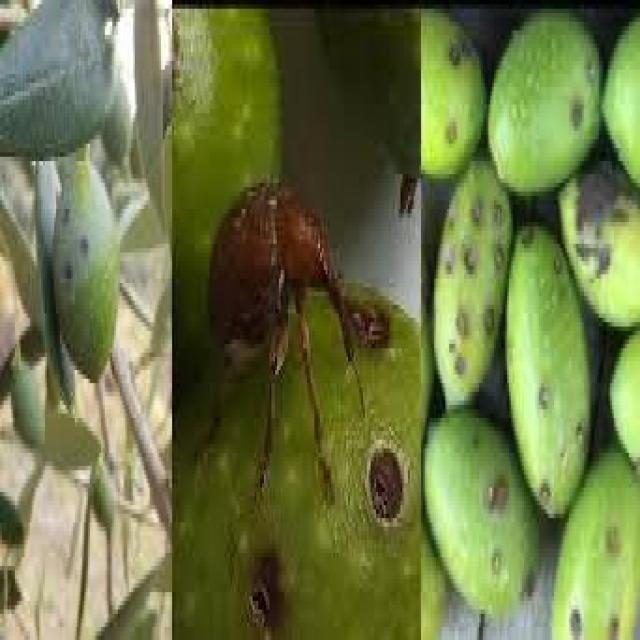Anthracnose: (506, 226, 590, 509), (426, 410, 536, 610), (490, 8, 597, 192), (52, 144, 120, 368), (434, 162, 496, 400), (562, 167, 638, 334)
